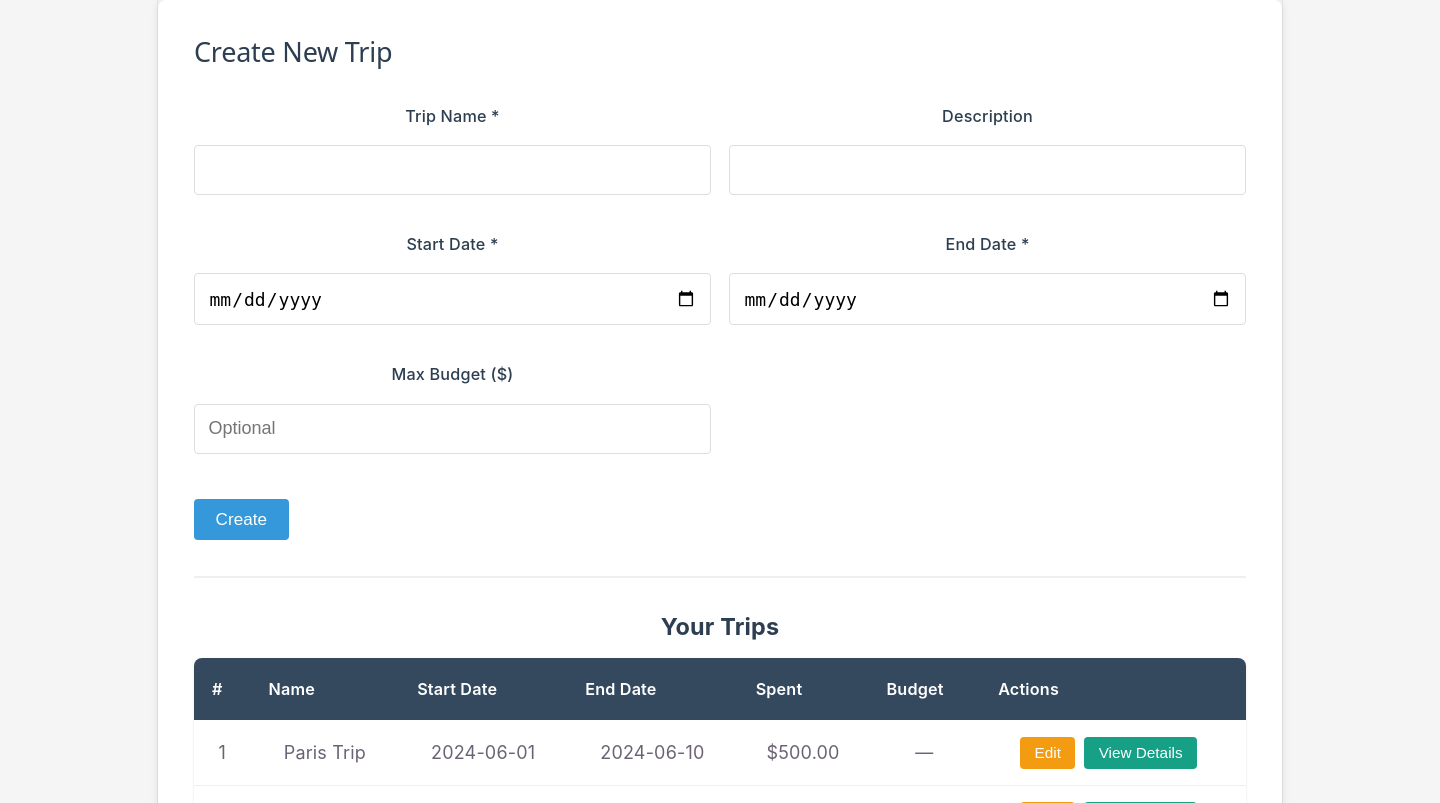
Scenario: TripMaster › switches to edit mode when Edit is clicked
Click the button "Edit" in the row of "Paris Trip": coordinates (1048, 753) [1020,737,1075,769]
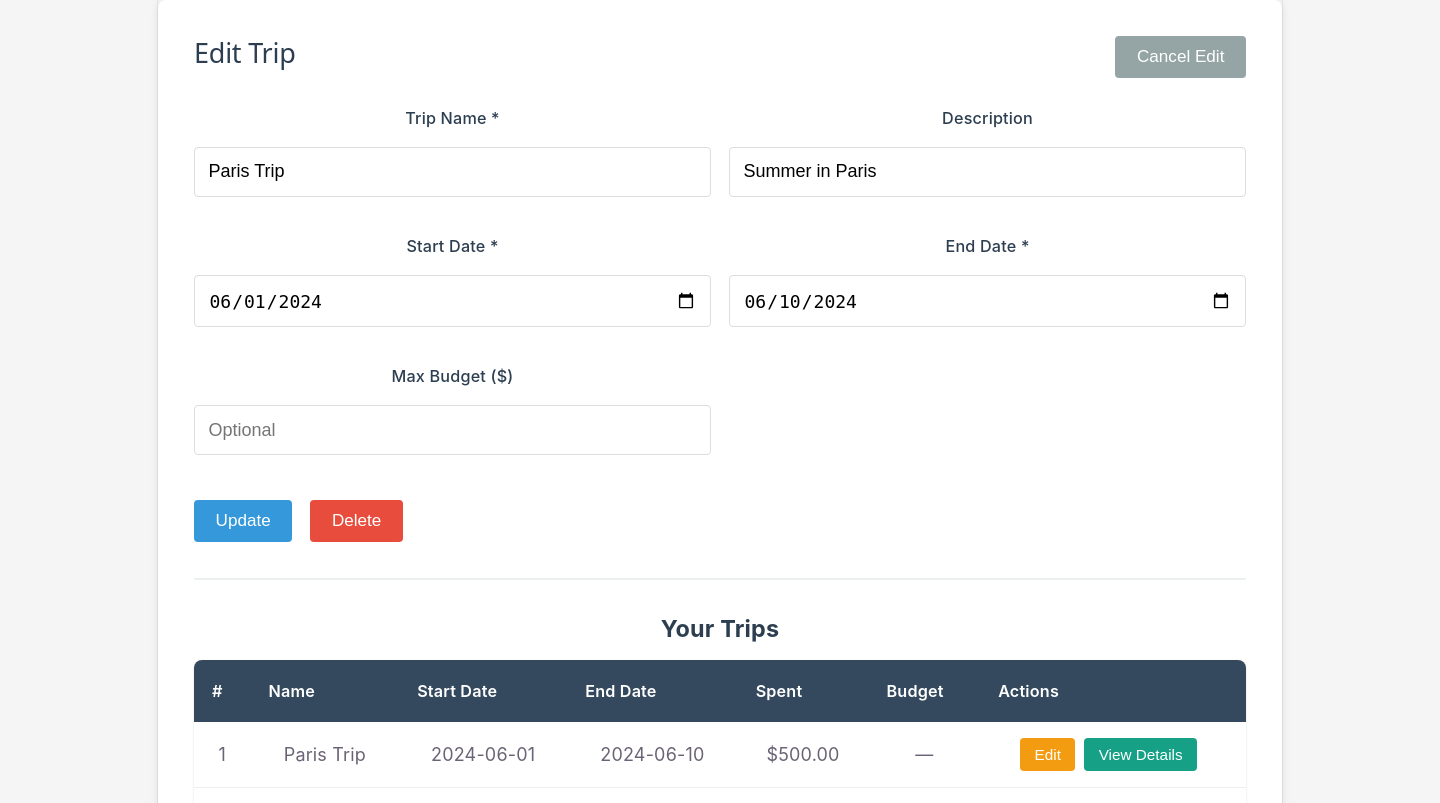
Expected: the heading "Edit Trip" is shown, [194,37,296,69]
Expected: the button "Cancel Edit" is shown, [1115,36,1246,78]
